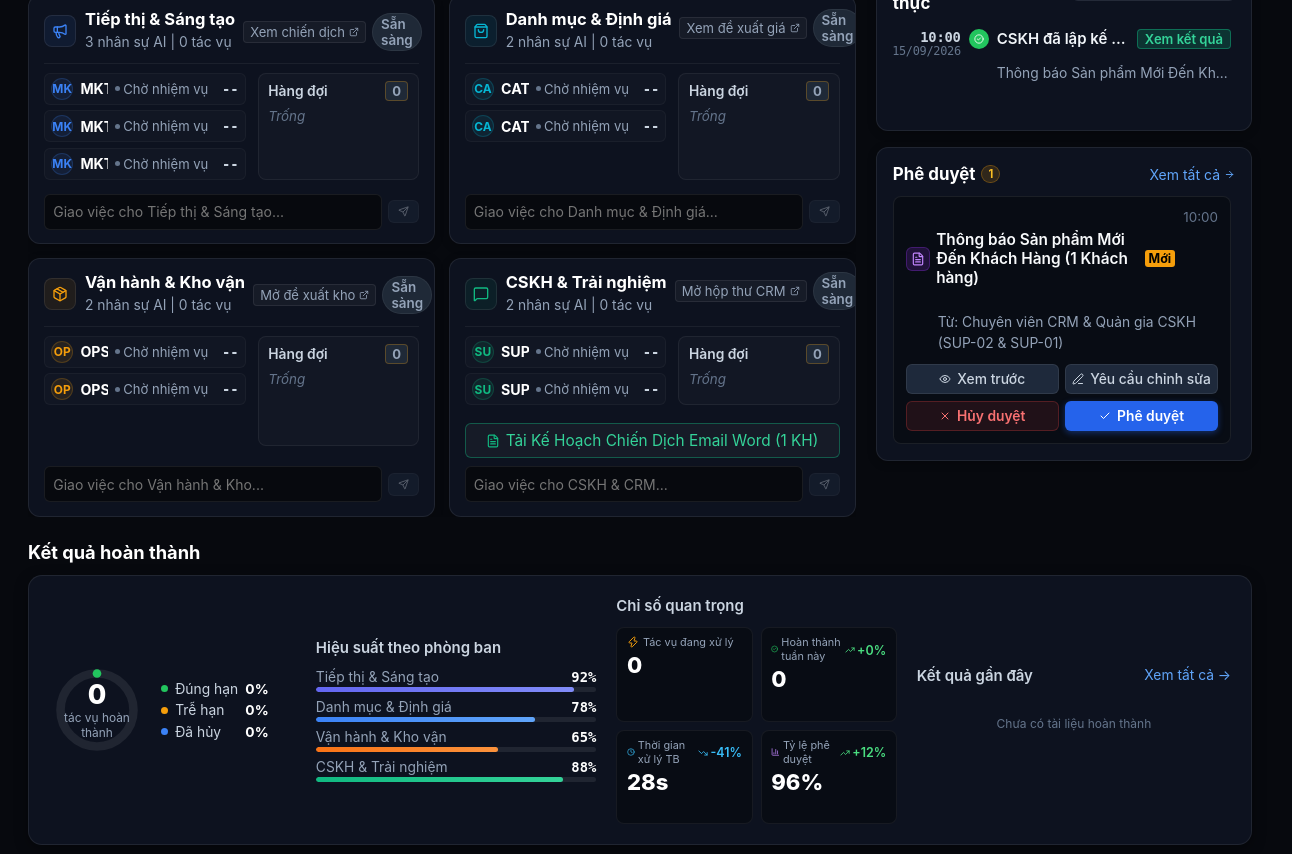
AgenticCommandCenter Support Email Campaign Integration › synchronizes CommandCenterHeader waiting_approval badge when proposal is approved
(page scrolled)
Click the button "Phê duyệt".
click(1142, 416)  # box [1065,401,1218,431]
(page scrolled)
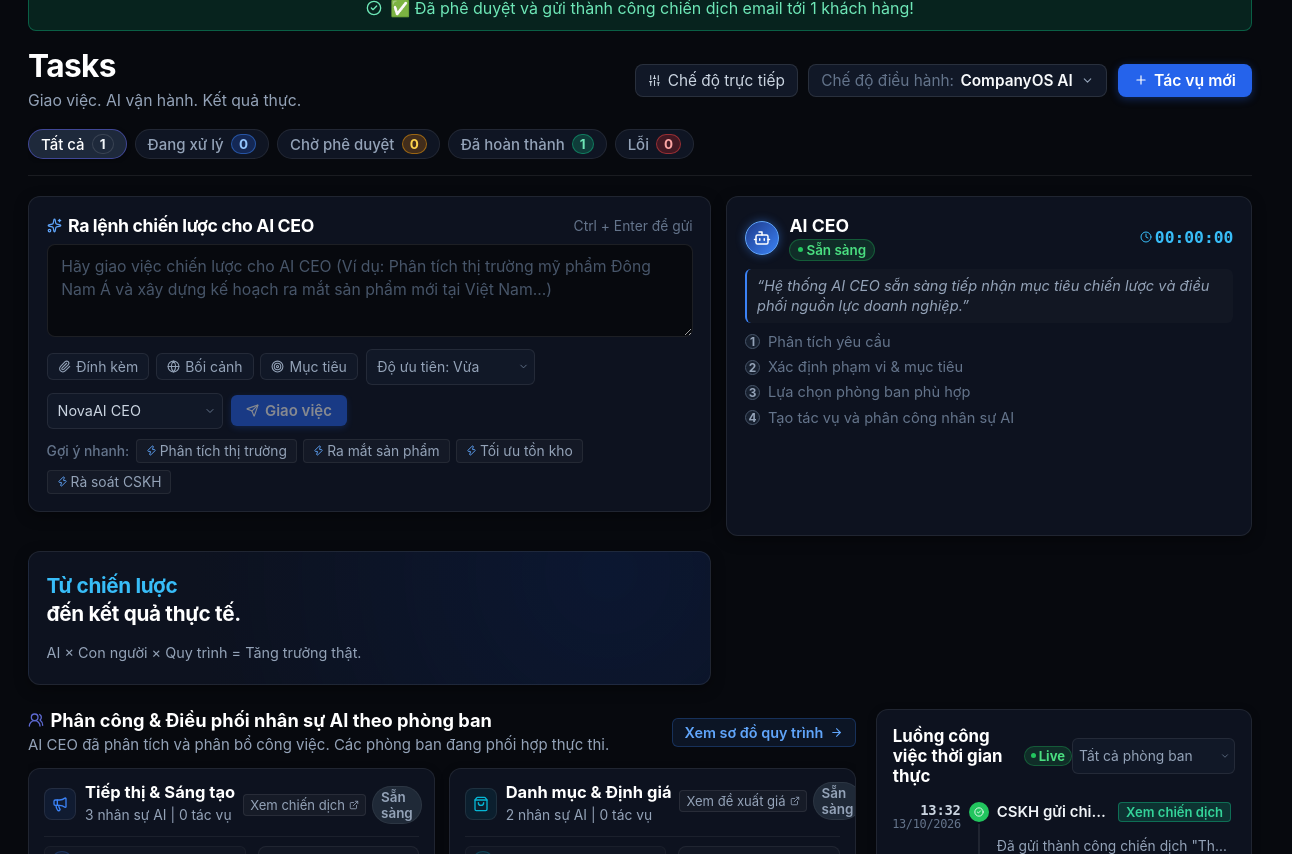
Expected: the text with class "badge-waiting" reads "0", [410,136,419,152]
